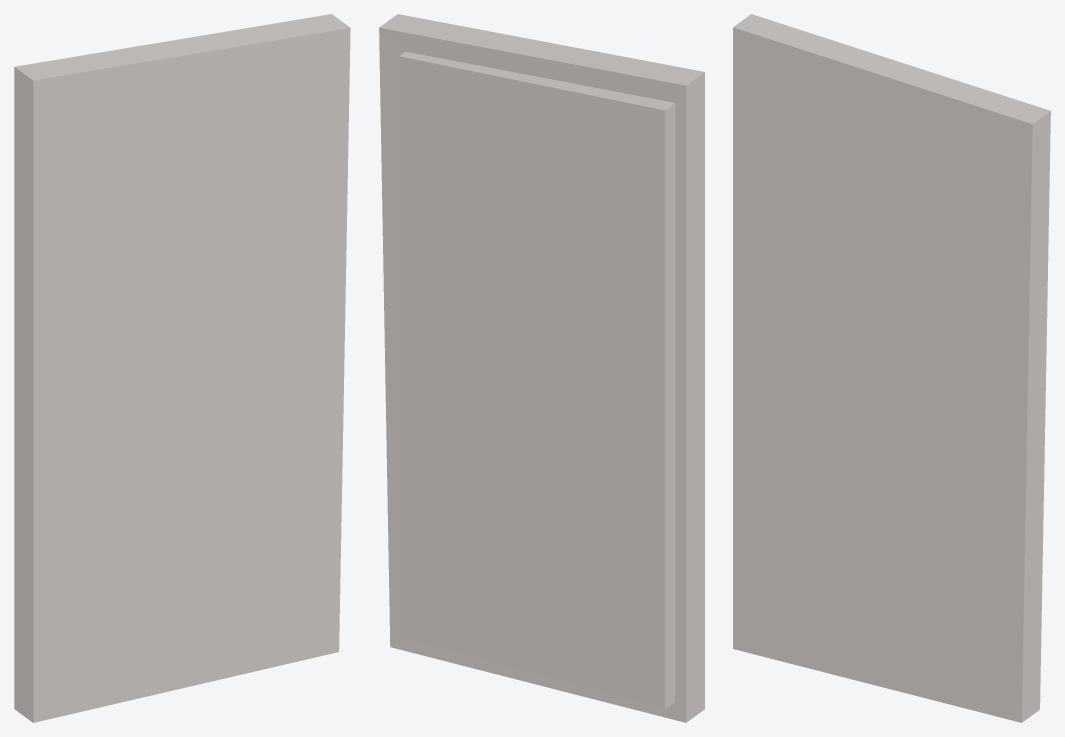
File: truck-door_L.glb
3 views of the same model, side by side, from view 1: azimuth 30°, elevation 25°; view 2: azimuth 150°, elevation 25°; view 3: azimuth 330°, elevation 25° (orthographic). The views are drawn at different scales.
Visible parts, largest first — view 1: truck-door_L; view 2: truck-door_L; view 3: truck-door_L.
Boxes of the visible parts, x1,y1,x2,y2 form: truck-door_L: (14, 14, 350, 722); truck-door_L: (379, 14, 704, 722); truck-door_L: (733, 14, 1050, 722).
Bounding box in the file's own units: 0.9595 × 1.88 × 0.1755.
1 material, 1 textured.
